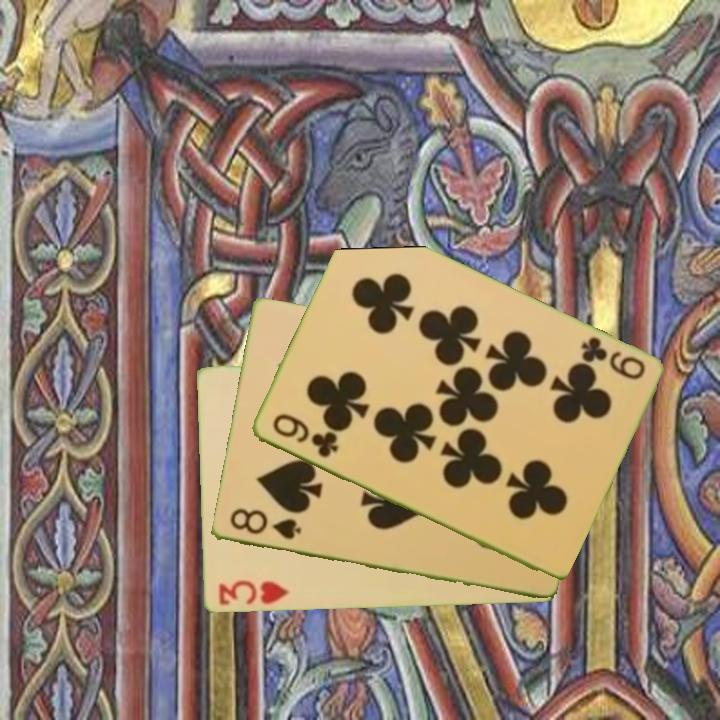3h: (215, 577, 292, 609)
8s: (225, 505, 304, 543)
9c: (268, 410, 341, 461), (577, 333, 648, 383)
